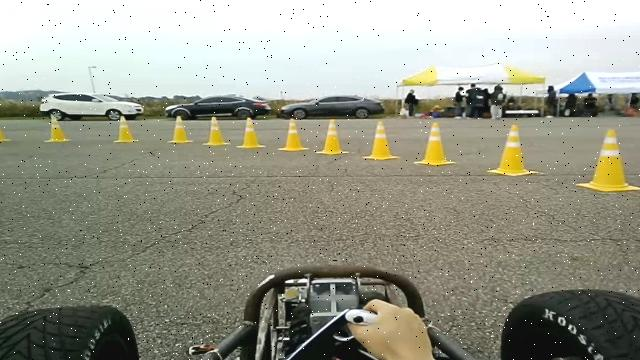yellow cone: (575, 128, 640, 193), (486, 124, 543, 176), (413, 121, 456, 166), (362, 120, 399, 160), (315, 118, 349, 155), (277, 118, 309, 152), (236, 116, 265, 148), (202, 116, 230, 146), (43, 115, 70, 143), (167, 115, 193, 144), (112, 115, 138, 143), (0, 116, 11, 142)
